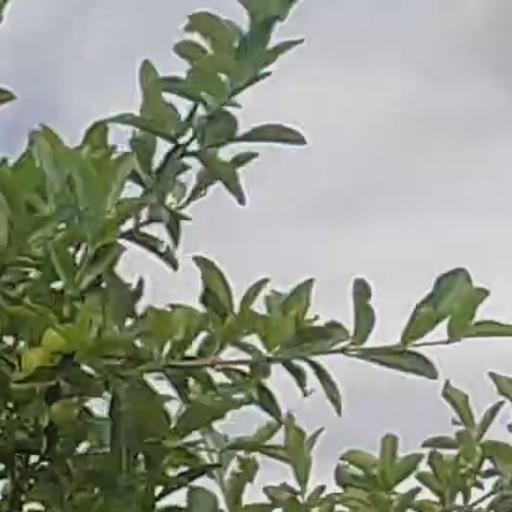acerola: (41, 325, 75, 349), (22, 348, 51, 369)
